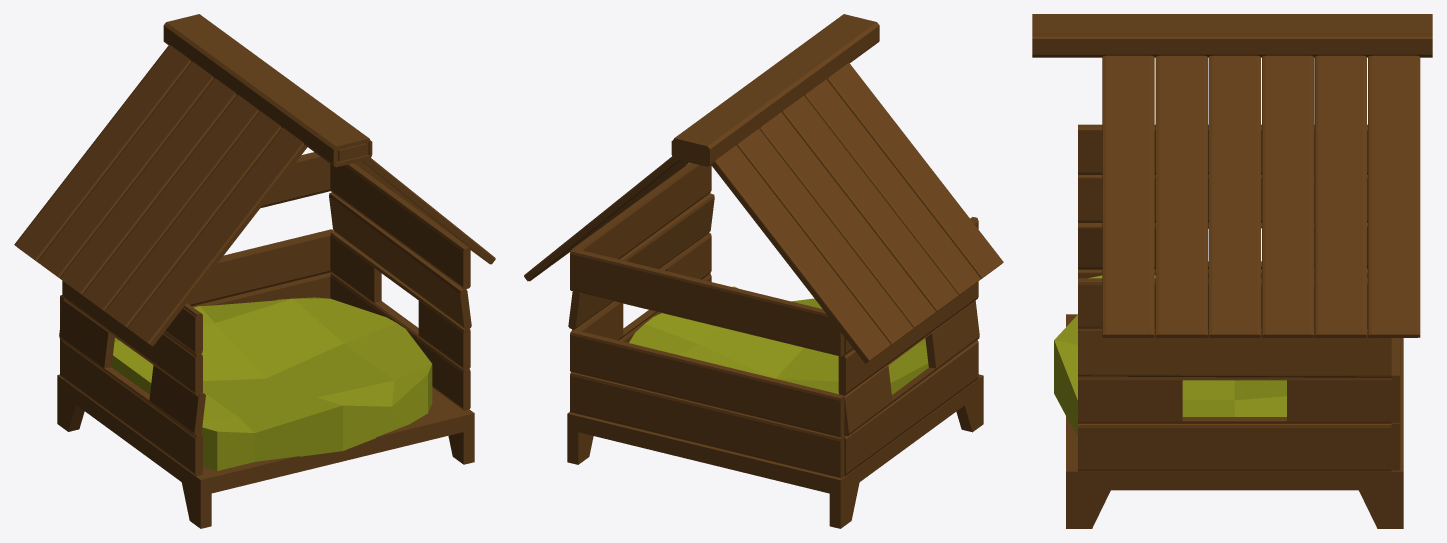
The model's file is Egg_Ponte.fbx.
The picture shows the model from 3 angles, left to right: view 1: azimuth 30°, elevation 25°; view 2: azimuth 150°, elevation 25°; view 3: azimuth 270°, elevation 25°; orthographic projection. The views are drawn at different scales.
Parts seen in each view (by area): view 1: Cube.001, Cube, Cube.027, Cube.022, Cube.021, Cube.026, Cube.023, Cube.024, Cube.025, Cube.011, Cube.013, Cube.003 (+9 smaller); view 2: Cube.013, Cube.014, Cube.012, Cube, Cube.027, Cube.001, Cube.023, Cube.024, Cube.025, Cube.022, Cube.026, Cube.021 (+7 smaller); view 3: Cube.027, Cube.009, Cube.015, Cube.016, Cube.018, Cube.020, Cube.019, Cube.017, Cube.010, Cube.008, Cube, Cube.001 (+6 smaller).
Boxes of the visible parts, x1,y1,x2,y2 form: Cube.001: (111,297,432,470); Cube: (57,374,474,528); Cube.027: (163,14,372,167); Cube.022: (127,127,307,346); Cube.021: (104,111,281,329); Cube.026: (59,78,236,295); Cube.023: (14,45,190,262); Cube.024: (37,61,213,279); Cube.025: (82,94,258,311); Cube.011: (330,163,470,289); Cube.013: (60,229,334,326); Cube.003: (62,341,202,475); Cube.013: (570,329,844,437); Cube.014: (570,248,844,356); Cube.012: (570,372,844,478); Cube: (567,374,983,528); Cube.027: (671,14,879,166); Cube.001: (629,286,928,394); Cube.023: (711,145,890,363); Cube.024: (737,128,913,345); Cube.025: (782,96,958,313); Cube.022: (827,63,1003,280); Cube.026: (760,112,935,329); Cube.021: (805,79,980,296); Cube.027: (1032,14,1432,57); Cube.009: (1078,423,1391,471); Cube.015: (1208,55,1260,337); Cube.016: (1262,55,1314,337); Cube.018: (1102,55,1154,337); Cube.020: (1314,55,1366,337); Cube.019: (1368,55,1420,337); Cube.017: (1155,55,1207,337); Cube.010: (1078,328,1391,377); Cube.008: (1078,376,1391,423); Cube: (1066,314,1403,528); Cube.001: (1054,275,1286,436).
Size of the model in its own units: 151 by 150 by 128.
